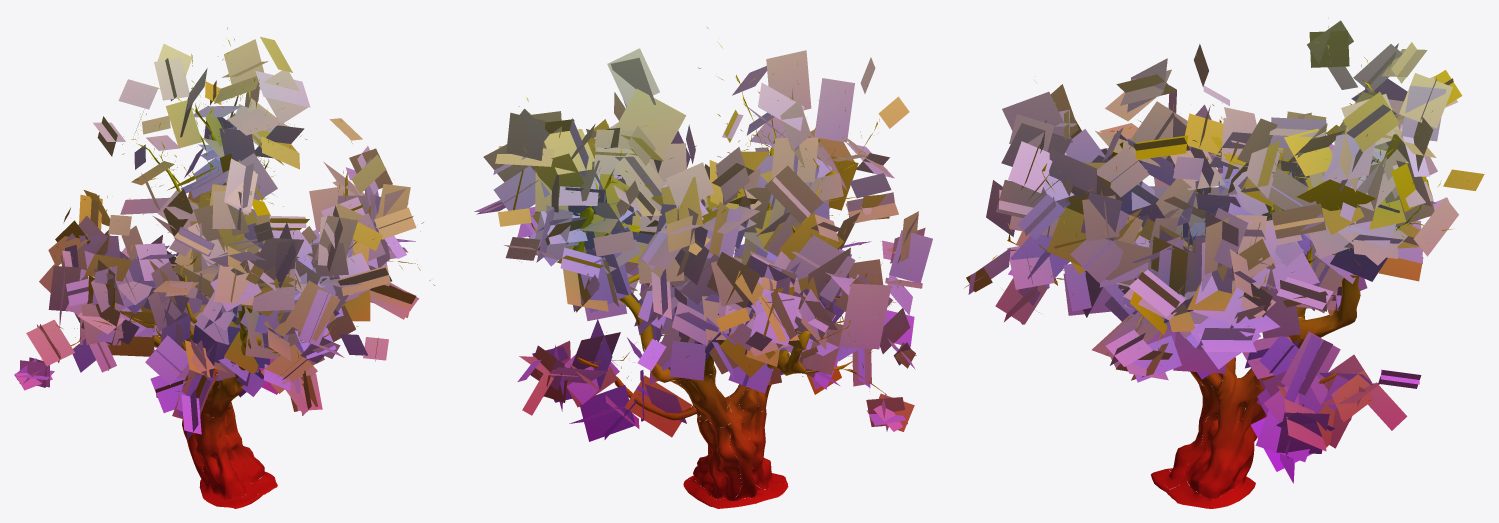
File: olive.glb
3 views of the same model, side by side, from view 1: azimuth 30°, elevation 25°; view 2: azimuth 150°, elevation 25°; view 3: azimuth 270°, elevation 25° (orthographic). The views are drawn at different scales.
Parts seen in each view (by area): view 1: cards_lod0, trunk_lod0, branches_lod0; view 2: cards_lod0, trunk_lod0, branches_lod0; view 3: cards_lod0, trunk_lod0, branches_lod0.
Boxes of the visible parts, x1,y1,x2,y2 form: cards_lod0: (14, 36, 418, 440); trunk_lod0: (154, 132, 277, 508); branches_lod0: (41, 27, 435, 400); cards_lod0: (474, 48, 932, 441); trunk_lod0: (573, 147, 836, 508); branches_lod0: (519, 26, 916, 425); cards_lod0: (964, 18, 1484, 483); trunk_lod0: (1151, 245, 1360, 508); branches_lod0: (992, 42, 1467, 412).
Size of what is drawn, in the model's own units: 6.49 by 6.87 by 6.56.
